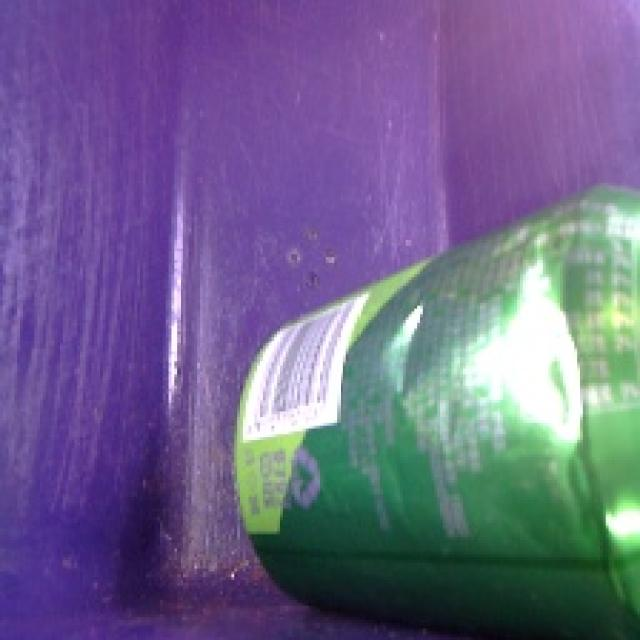metal: (218, 167, 640, 640)
